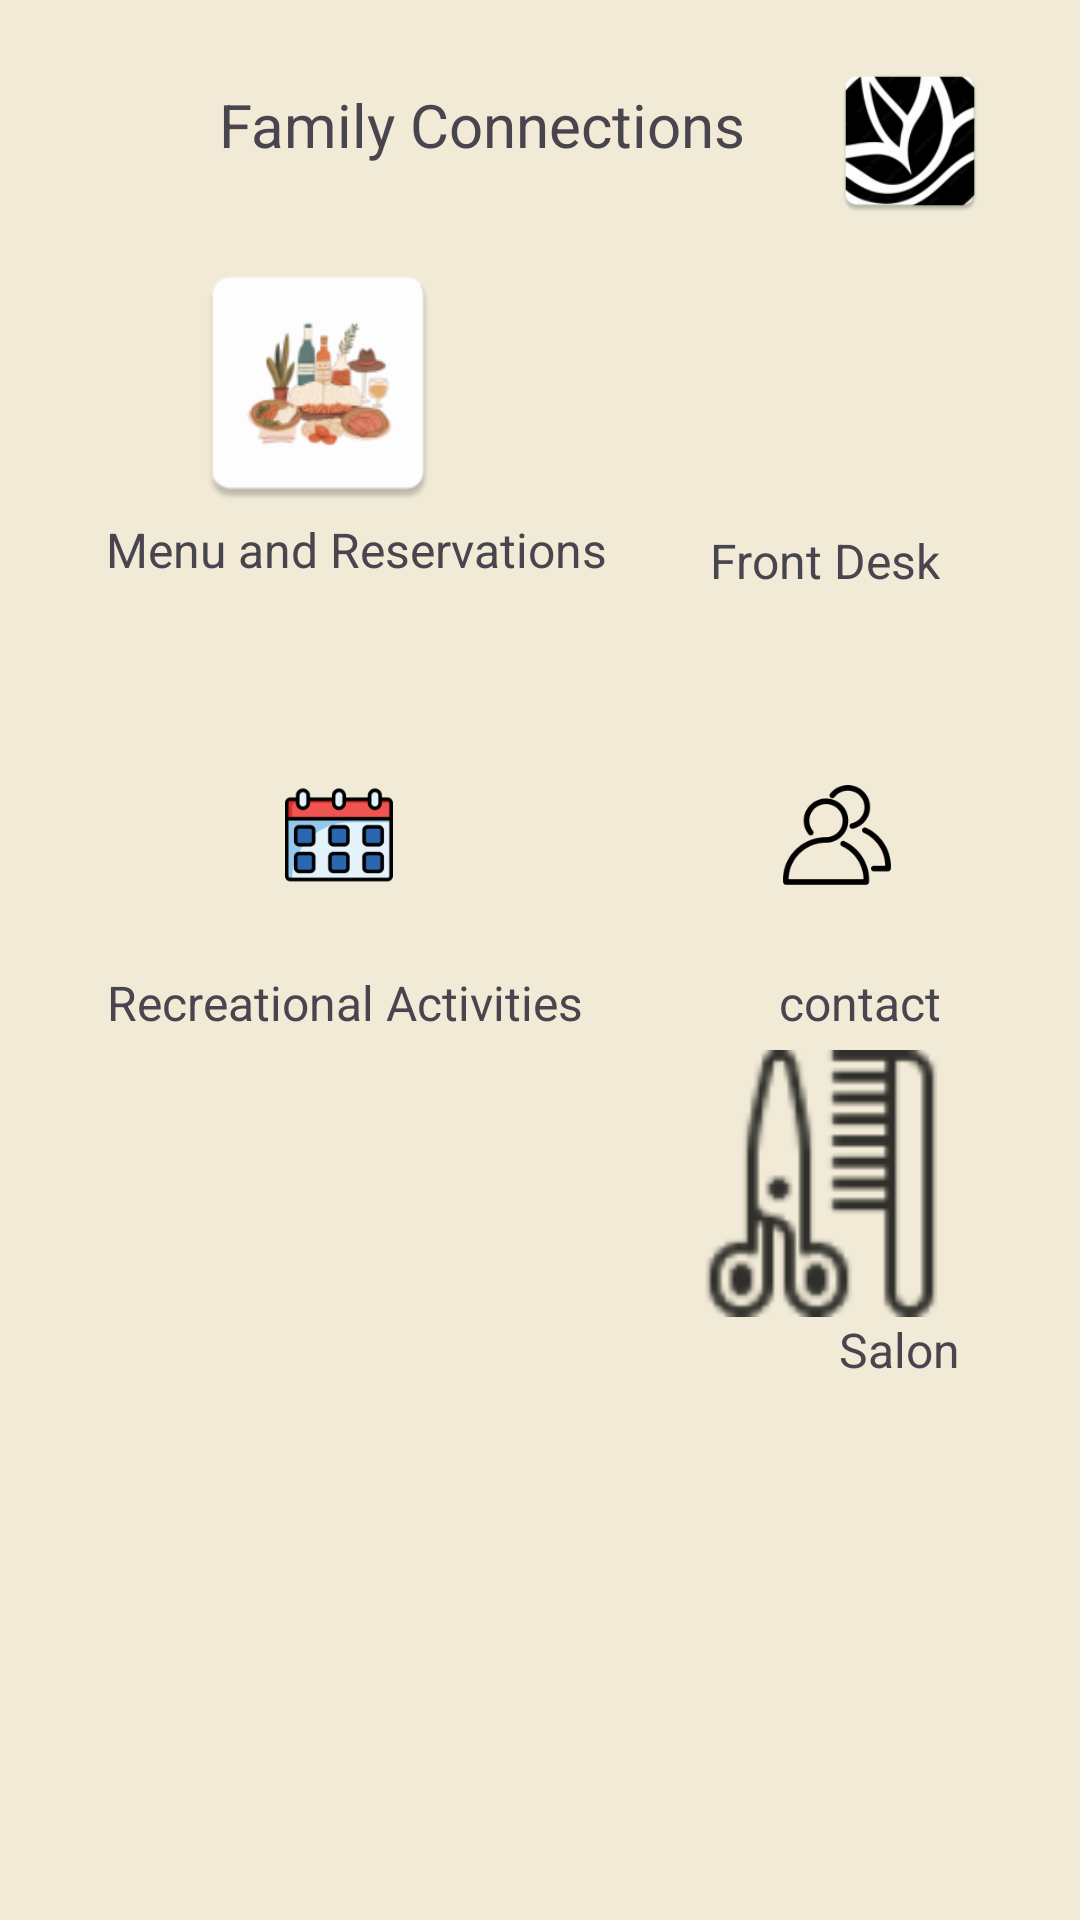

Named icons in this screenshot (1080x1920) and their centers, point (x, y):
restaurant: point (319, 387)
